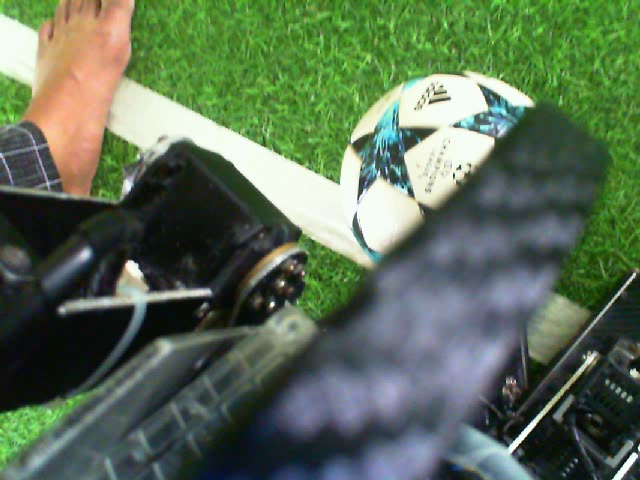ball: (338, 68, 537, 266)
